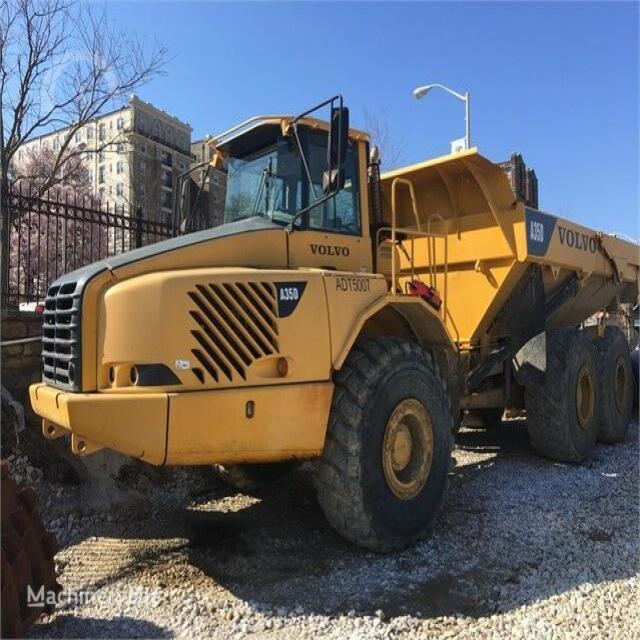dump_truck: (31, 87, 639, 557)
